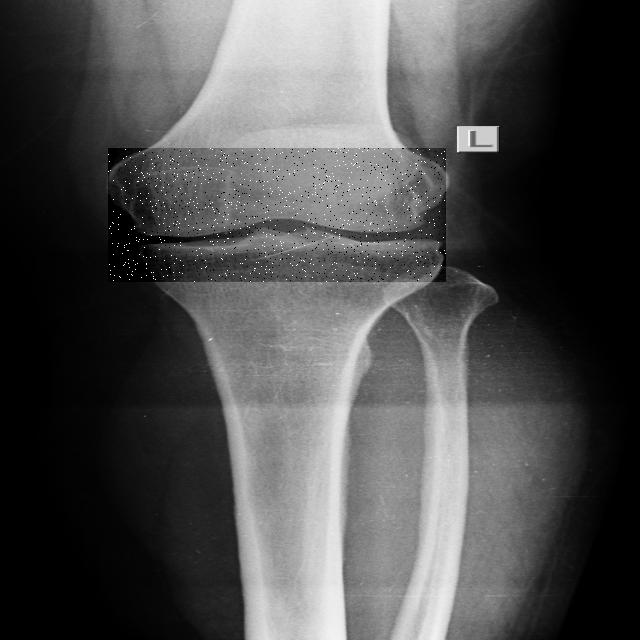normal: (108, 148, 446, 282)
